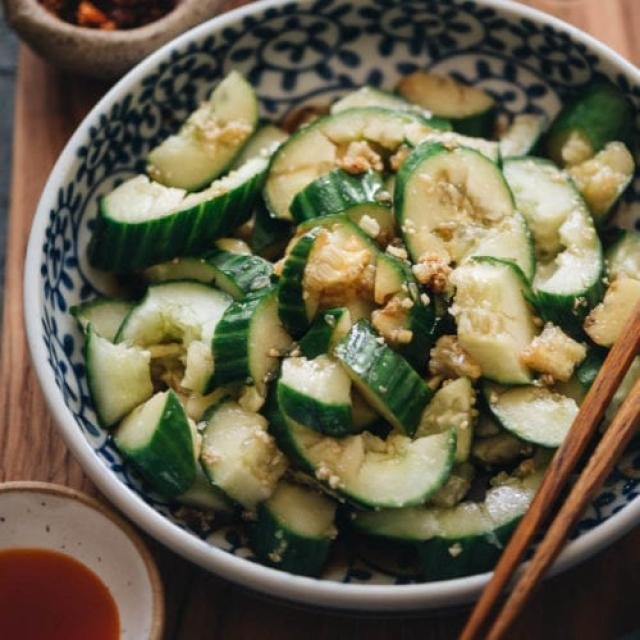Pickle: (89, 125, 285, 272), (352, 471, 542, 579), (264, 108, 444, 219), (271, 399, 456, 507), (395, 142, 535, 278), (505, 158, 604, 336), (112, 390, 229, 509), (148, 71, 258, 191), (279, 215, 379, 334), (332, 320, 432, 434), (449, 258, 536, 384), (201, 401, 289, 508), (206, 288, 292, 388), (502, 156, 582, 256), (255, 481, 338, 576), (546, 82, 631, 164), (85, 326, 152, 427), (278, 355, 354, 436)
